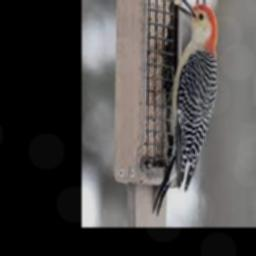Woodpecker: (153, 0, 217, 215)
